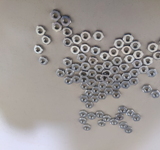nut: (114, 38, 125, 49), (61, 15, 71, 27), (51, 9, 61, 21), (148, 42, 159, 52), (143, 56, 154, 66), (132, 59, 143, 69), (109, 47, 120, 57), (36, 25, 46, 36), (133, 50, 145, 59), (124, 34, 134, 44), (113, 56, 123, 66), (94, 31, 104, 41), (81, 31, 91, 41), (63, 27, 73, 37), (53, 22, 63, 32), (71, 63, 81, 73), (56, 68, 66, 78), (119, 63, 130, 72), (148, 68, 157, 78), (143, 85, 153, 94), (131, 41, 141, 50), (122, 46, 132, 55), (130, 77, 140, 86), (103, 61, 113, 70), (95, 63, 104, 73), (81, 62, 91, 71), (92, 46, 101, 56), (81, 43, 90, 53), (73, 35, 82, 45), (71, 45, 80, 55), (64, 37, 73, 47), (39, 56, 48, 66), (34, 44, 43, 54), (81, 62, 90, 72), (64, 77, 74, 86), (63, 58, 73, 67), (151, 90, 160, 99), (113, 82, 122, 91), (111, 66, 120, 75), (105, 87, 114, 96), (80, 95, 89, 104), (42, 36, 51, 45), (78, 53, 87, 62), (88, 69, 97, 78), (72, 75, 81, 84), (65, 68, 74, 77), (125, 55, 135, 63), (130, 69, 140, 77), (100, 52, 110, 60), (79, 71, 89, 79), (139, 66, 148, 74), (113, 91, 122, 99), (93, 86, 101, 95), (85, 89, 94, 97), (88, 79, 97, 87), (133, 114, 142, 122), (119, 106, 127, 115), (103, 115, 112, 123), (88, 112, 96, 121), (83, 124, 92, 132), (79, 110, 88, 118), (89, 57, 98, 65), (80, 76, 89, 84), (122, 73, 132, 80), (114, 74, 122, 82), (122, 81, 130, 89), (106, 78, 114, 86), (127, 109, 135, 117), (98, 120, 106, 128), (79, 118, 87, 126), (100, 75, 109, 82), (103, 70, 112, 77), (98, 82, 107, 89), (91, 96, 100, 103), (86, 102, 95, 109), (80, 83, 89, 90), (99, 92, 106, 100), (96, 74, 103, 82), (125, 127, 133, 134), (119, 122, 127, 129), (154, 51, 160, 60), (111, 119, 118, 126), (97, 111, 103, 119)
